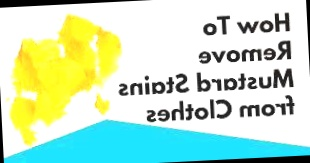mustard: (9, 21, 127, 86), (9, 74, 93, 114), (55, 10, 97, 57), (10, 106, 37, 149), (30, 104, 64, 126), (91, 90, 113, 115)
